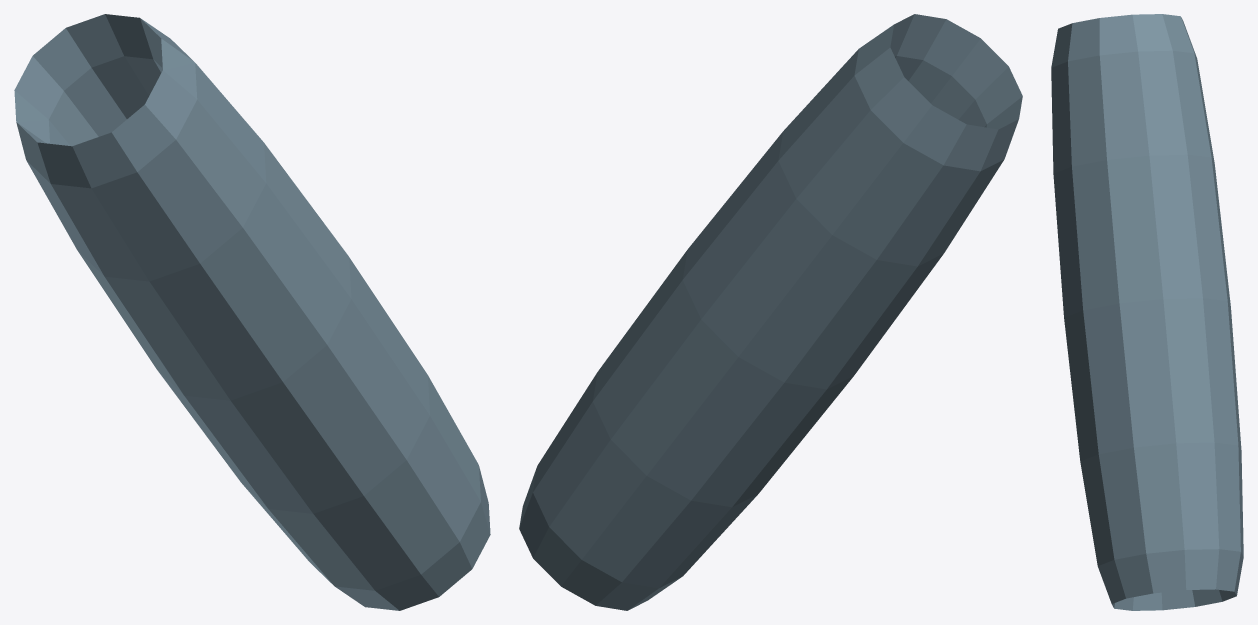
Rendered from astronaut_spawn_group828877529_lev4.glb.
The picture shows the model from 3 angles, left to right: view 1: azimuth 30°, elevation 25°; view 2: azimuth 150°, elevation 25°; view 3: azimuth 270°, elevation 25°; orthographic projection. The views are drawn at different scales.
Parts seen in each view (by area): view 1: astronaut_spawn_group828877529_lev4; view 2: astronaut_spawn_group828877529_lev4; view 3: astronaut_spawn_group828877529_lev4.
Part boxes in pixels (x1,y1,x2,y2): astronaut_spawn_group828877529_lev4: (14, 14, 490, 610); astronaut_spawn_group828877529_lev4: (519, 14, 1022, 610); astronaut_spawn_group828877529_lev4: (1051, 14, 1243, 610).
Size of the model in its own units: 0.133 by 0.1752 by 0.0606.
